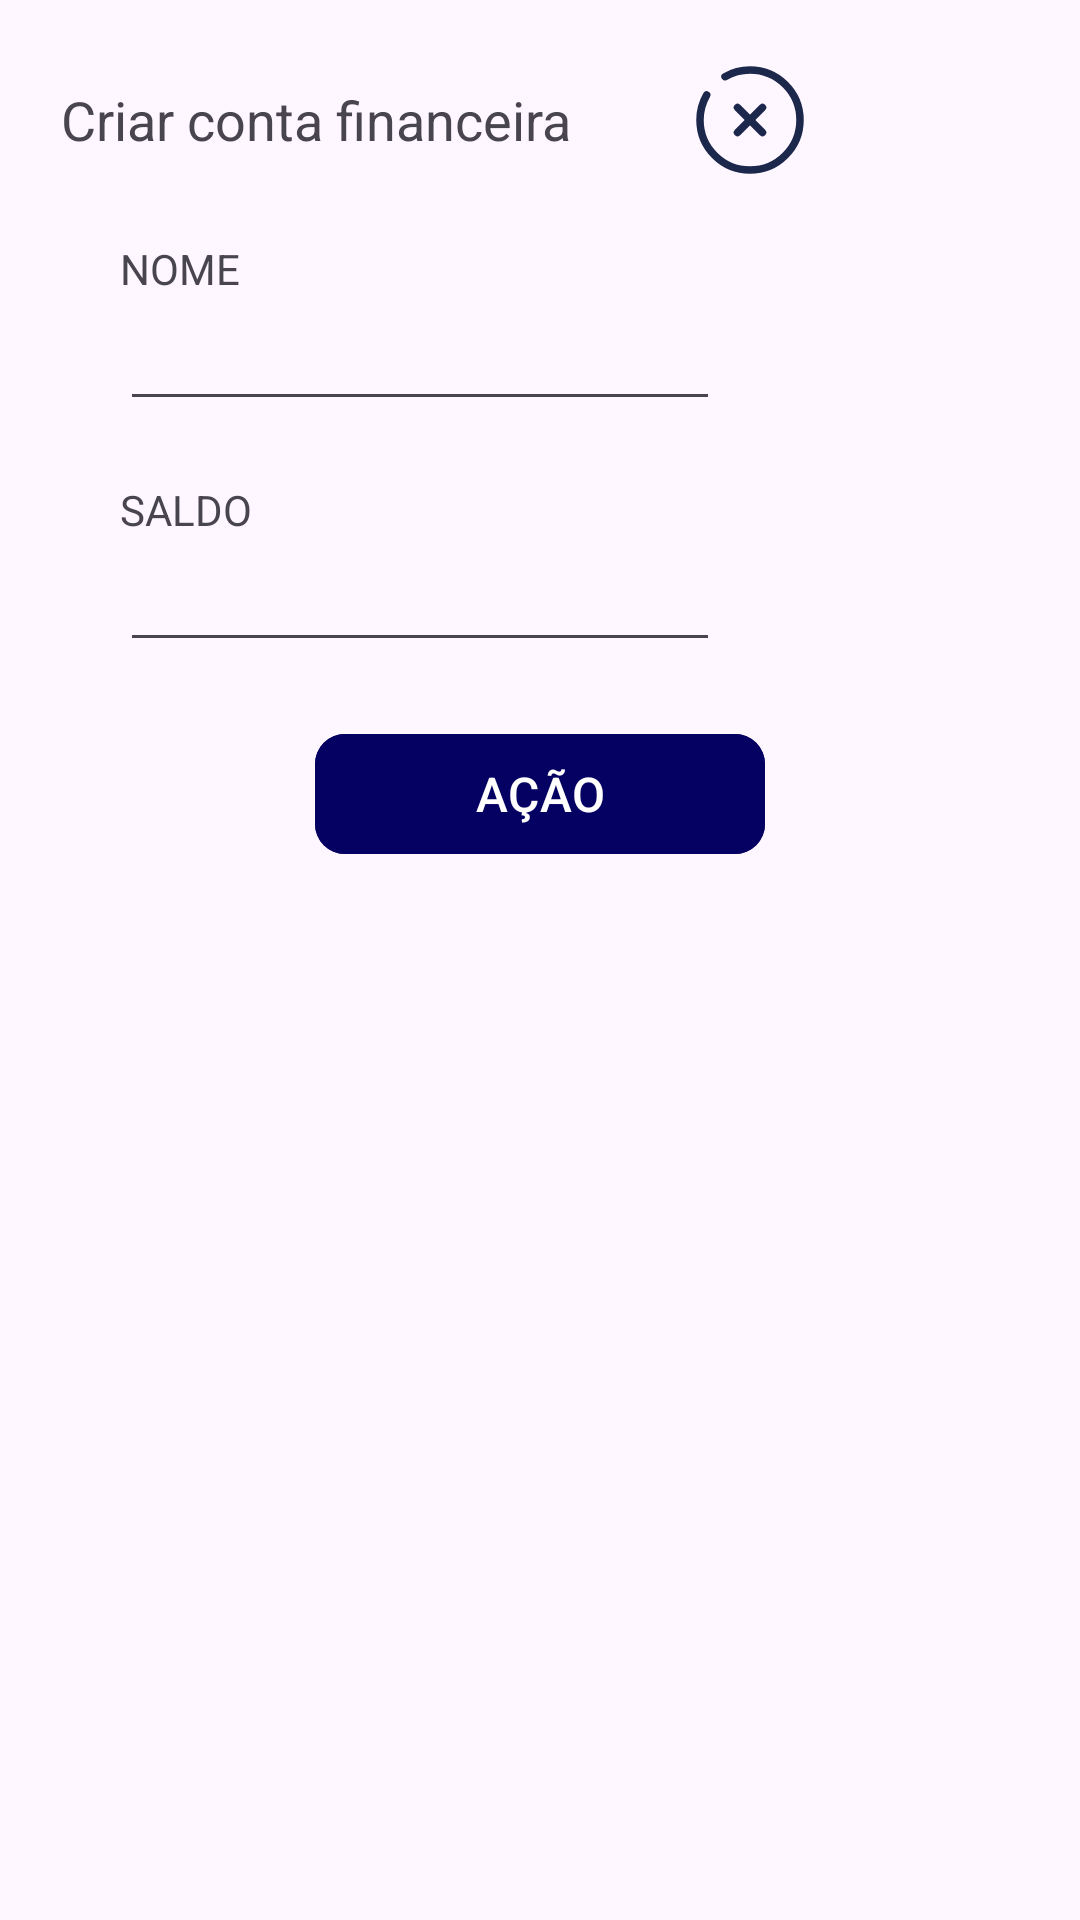

Screen size 1080 x 1920. Icon name, then its box in pixels as (x1, y1, x2, y2):
fechar: (696, 66, 804, 174)
